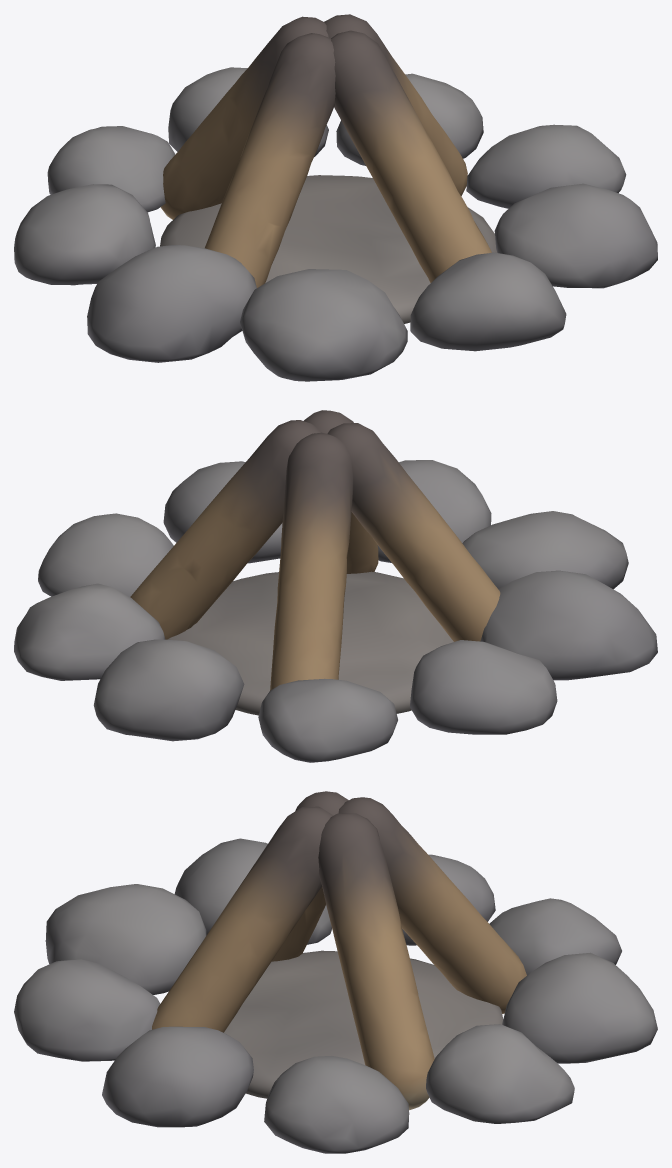
Rendered from Campfire.fbx.
The picture shows the model from 3 angles, top to bottom: view 1: azimuth 30°, elevation 25°; view 2: azimuth 150°, elevation 25°; view 3: azimuth 270°, elevation 25°; orthographic projection. The views are drawn at different scales.
Parts seen in each view (by area): view 1: Campfire; view 2: Campfire; view 3: Campfire.
Part boxes in pixels (x1,y1,x2,y2): Campfire: (14, 14, 657, 381); Campfire: (14, 410, 657, 762); Campfire: (14, 791, 657, 1153).
Size of the model in its own units: 1.89 by 0.811 by 1.88.
